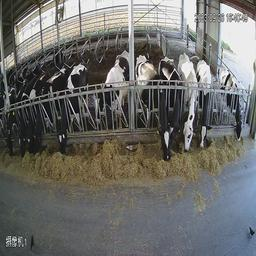cow: (135, 41, 171, 167), (55, 45, 89, 168), (98, 31, 129, 142), (218, 61, 249, 153), (179, 48, 201, 173), (35, 33, 56, 159), (19, 48, 40, 164), (160, 52, 183, 157), (7, 62, 28, 162), (197, 54, 215, 153)
